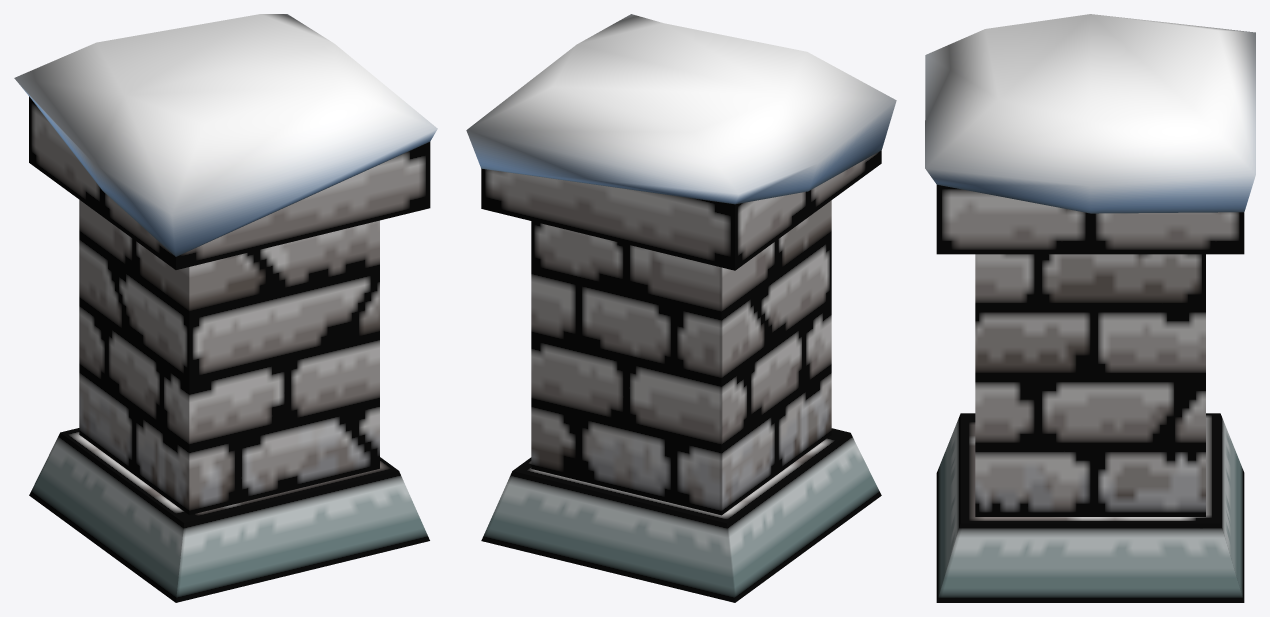
The model's file is deco_winter_wallEnd_snow.FBX.
The picture shows the model from 3 angles, left to right: view 1: azimuth 30°, elevation 25°; view 2: azimuth 150°, elevation 25°; view 3: azimuth 270°, elevation 25°; orthographic projection. The views are drawn at different scales.
Parts seen in each view (by area): view 1: deco_winter_wallEnd_snow; view 2: deco_winter_wallEnd_snow; view 3: deco_winter_wallEnd_snow.
Boxes of the visible parts, bbox=[...] form: deco_winter_wallEnd_snow: bbox=[14, 14, 437, 602]; deco_winter_wallEnd_snow: bbox=[466, 14, 896, 602]; deco_winter_wallEnd_snow: bbox=[925, 14, 1255, 602].
Bounding box in the file's own units: 1.07 × 1.69 × 1.08.
Materials: 1 (1 with a texture image).
